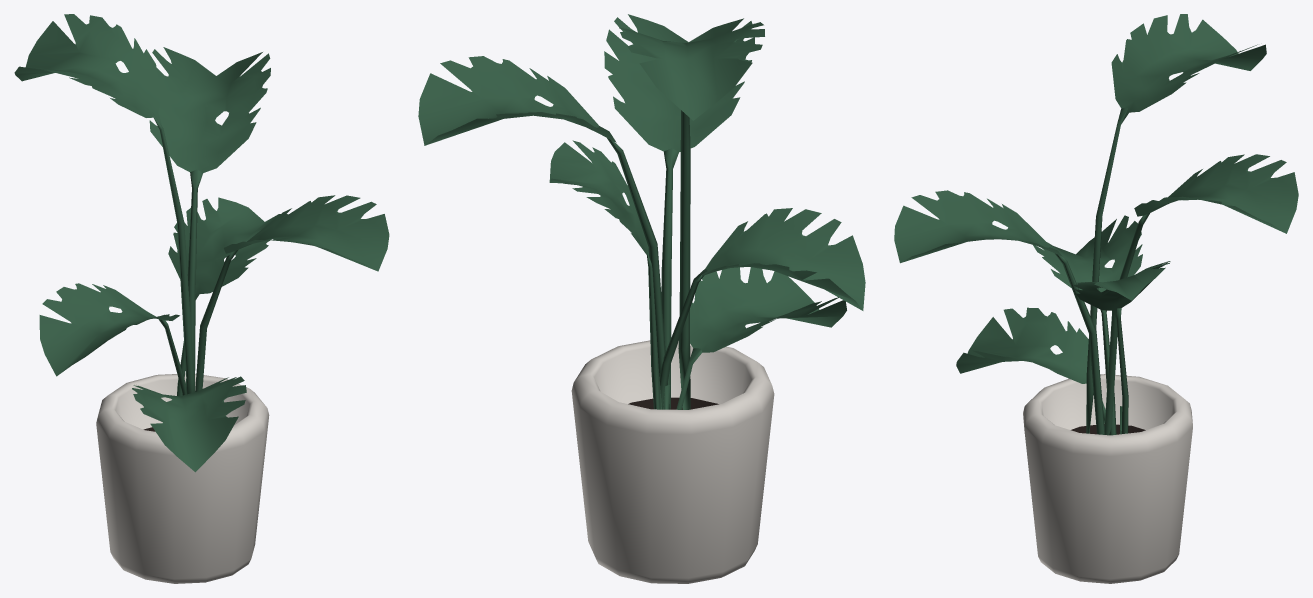
Rendered from Plant.glb.
3 views of the same model, side by side, from view 1: azimuth 30°, elevation 25°; view 2: azimuth 150°, elevation 25°; view 3: azimuth 270°, elevation 25° (orthographic). The views are drawn at different scales.
Visible parts, largest first — view 1: Cylinder.003; view 2: Cylinder.003; view 3: Cylinder.003.
Part boxes in pixels (x1=…): Cylinder.003: x1=14, y1=14, x2=389, y2=583; Cylinder.003: x1=418, y1=14, x2=865, y2=583; Cylinder.003: x1=894, y1=14, x2=1298, y2=583.
Bounding box in the file's own units: 0.9439 × 1.54 × 1.14.
